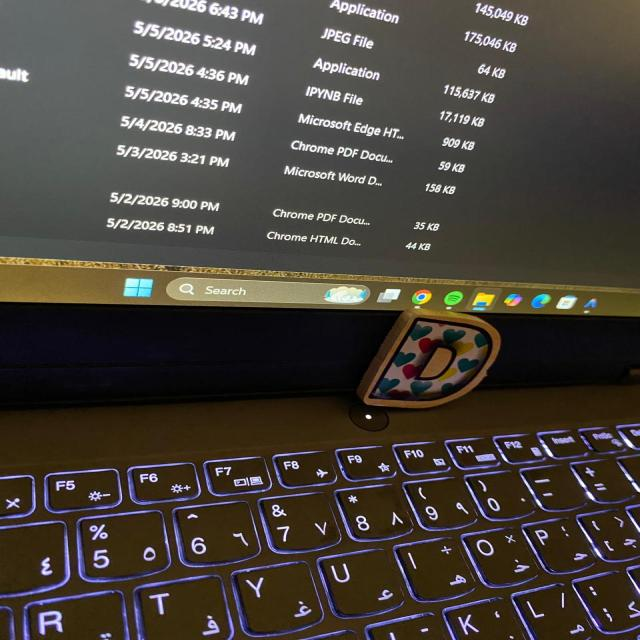D: (359, 309, 499, 408)
